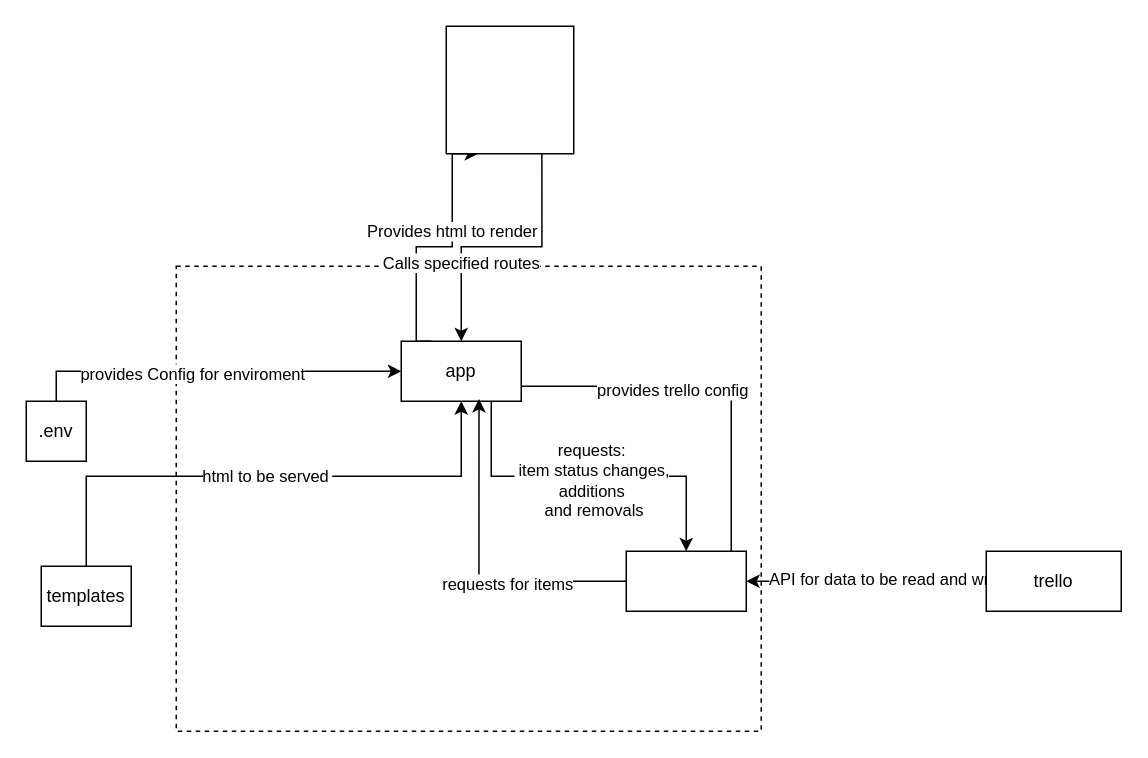
Some shapes in this 1148 by 758 pixel diagram are drawn without their labels. Here are the shapes that lost their labels. From the top down, the centre of each, then its label:
the point at 509,89: Flask Server
the point at 685,580: trello items
